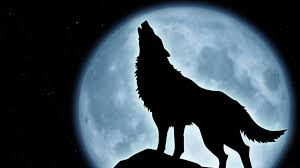Lobo: (127, 18, 292, 164)
